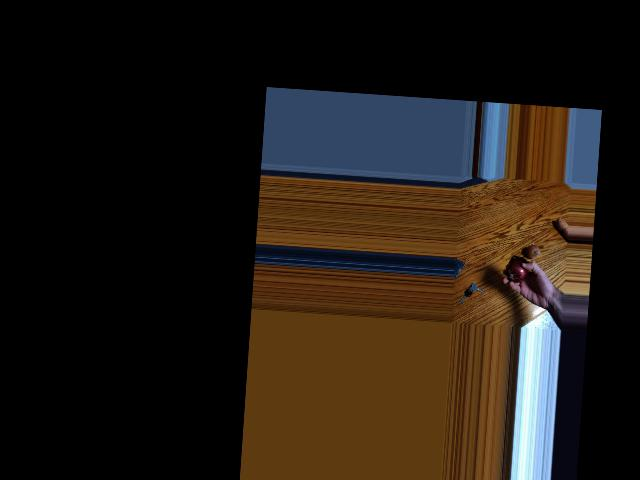onion: (506, 259, 527, 282)
